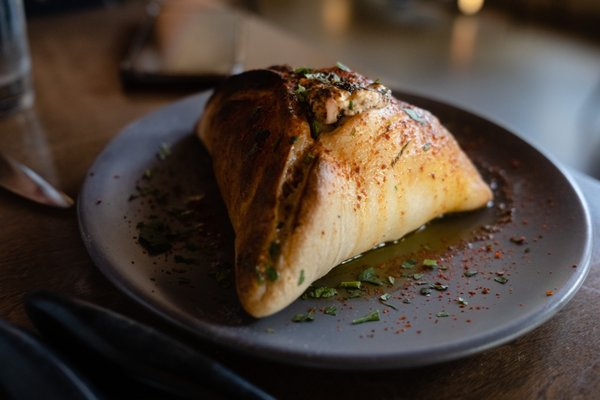soup: (196, 62, 493, 318)
